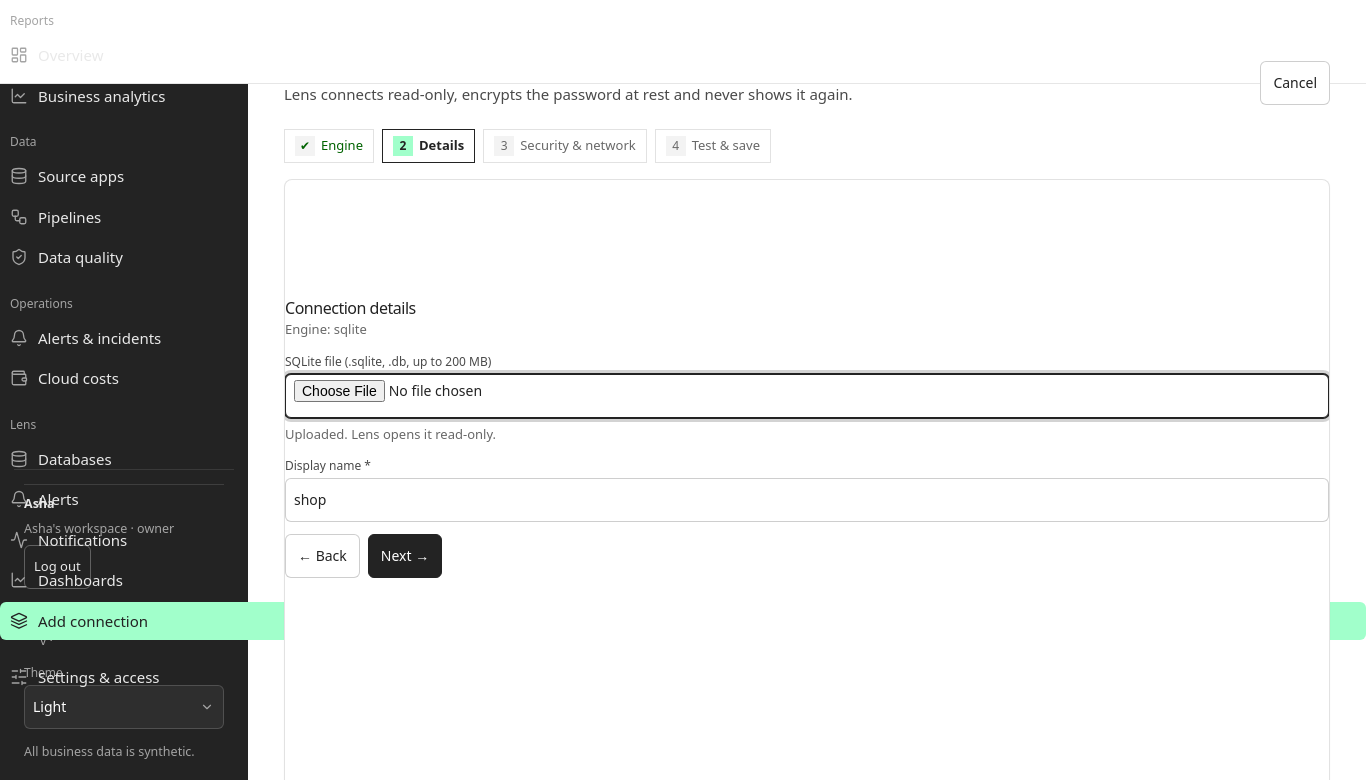
Test: Lens alerts › uploads a SQLite file in the wizard and tests it without network stages
Earlier steps of the test are not shown.
Expected: the field labelled "Display name *" holds "shop", [285,478,1329,522]
Click the button "Next →" at (405, 556), box [368,534,442,578]
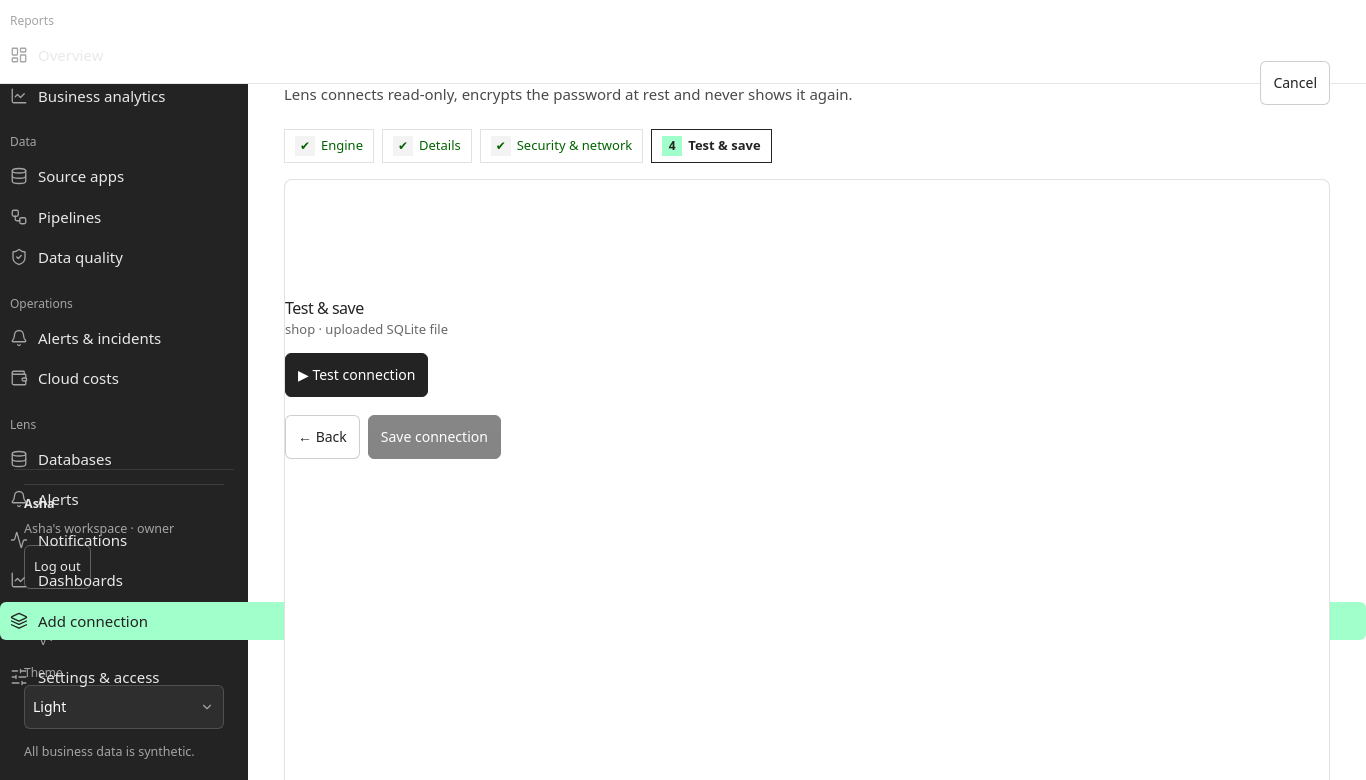
Click the button "▶ Test connection" at (357, 375), box [285,353,428,397]
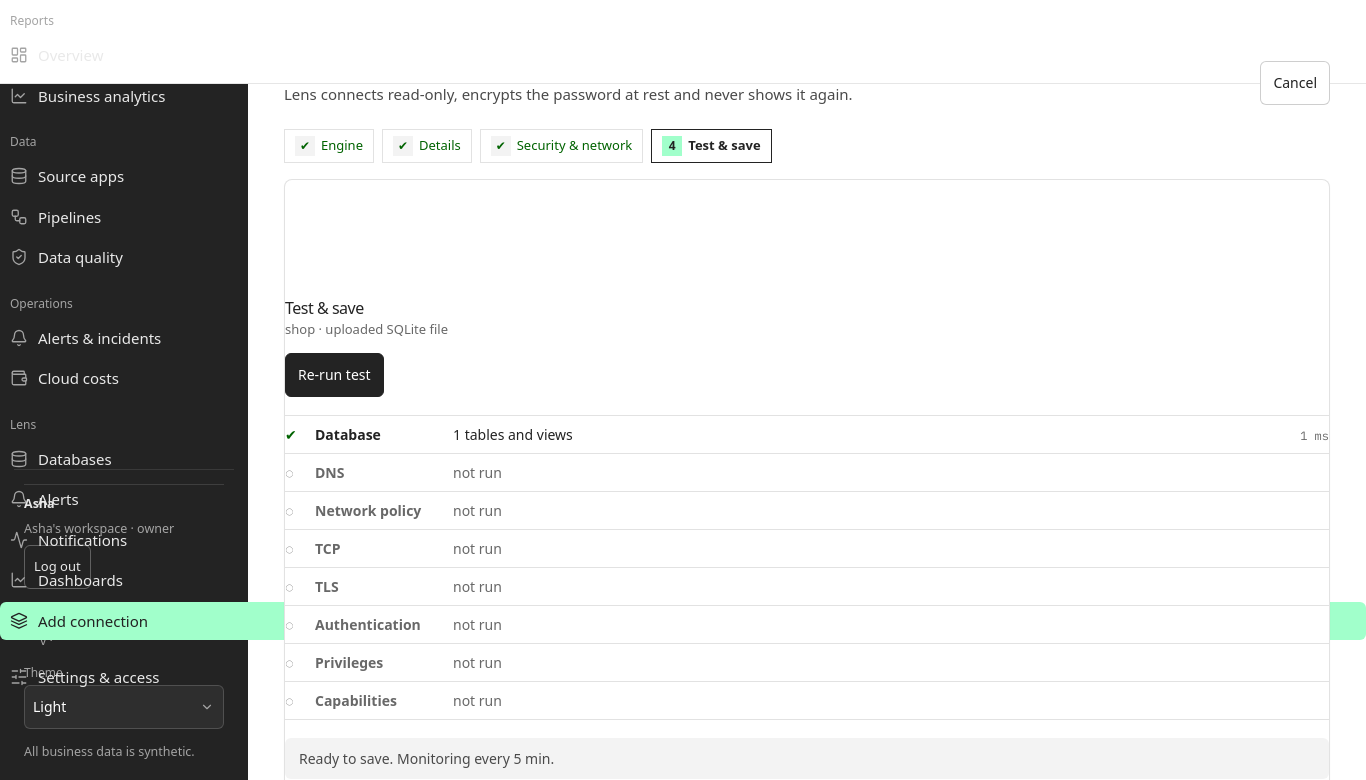
Now the text "1 tables and views" is shown, box [453,425,573,444]
